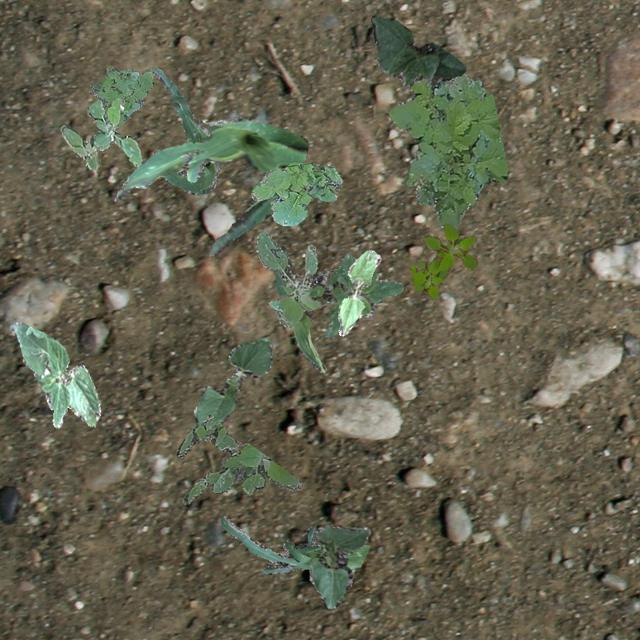crop: (114, 116, 308, 256), (9, 320, 100, 428), (218, 516, 368, 574), (152, 66, 218, 195), (192, 336, 272, 426), (370, 14, 464, 86), (274, 246, 326, 372), (308, 524, 369, 608), (336, 248, 378, 334)
weed: (388, 72, 507, 226), (175, 414, 302, 504), (308, 252, 402, 338), (256, 230, 318, 328), (250, 162, 342, 224), (60, 98, 140, 168), (408, 222, 476, 298), (90, 65, 152, 126)
